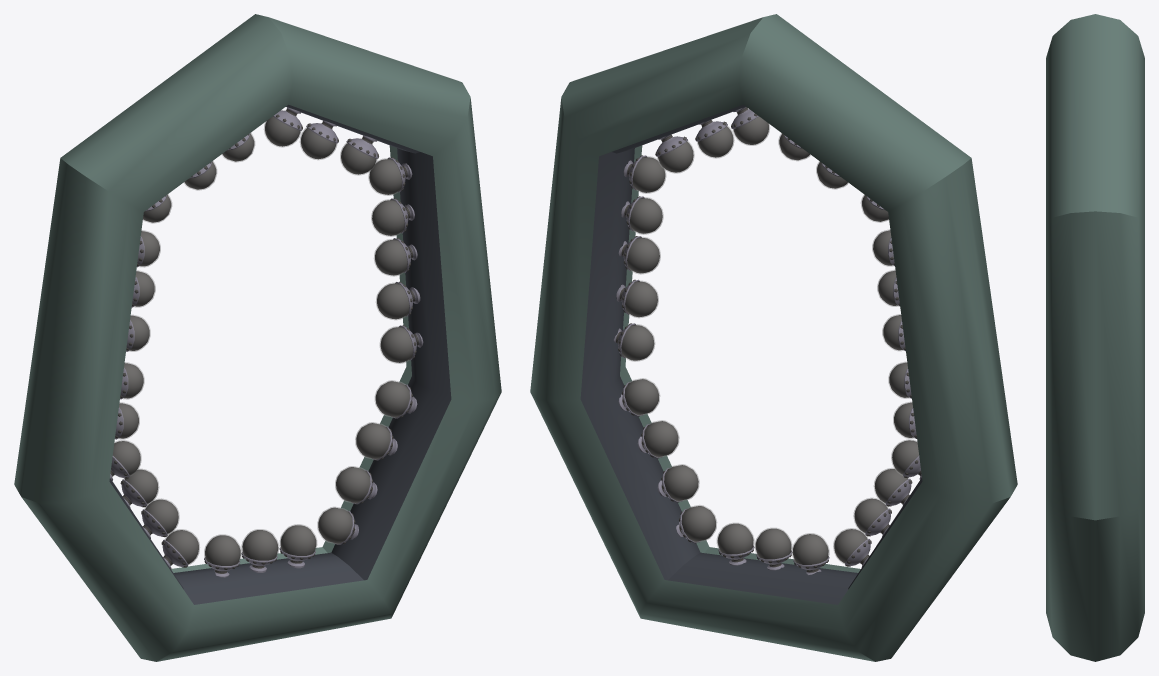
The model's file is Ring_Simple_01.fbx.
3 views of the same model, side by side, from view 1: azimuth 30°, elevation 25°; view 2: azimuth 150°, elevation 25°; view 3: azimuth 270°, elevation 25° (orthographic). The views are drawn at different scales.
Visible parts, largest first — view 1: Ring_01_simple, KugelLampe_01.037; view 2: Ring_01_simple, KugelLampe_01.037; view 3: Ring_01_simple.
Part boxes in pixels (x1,y1,x2,y2): Ring_01_simple: (14, 14, 501, 661); KugelLampe_01.037: (110, 107, 423, 577); Ring_01_simple: (530, 14, 1017, 661); KugelLampe_01.037: (614, 107, 921, 574); Ring_01_simple: (1046, 14, 1144, 661).
Size of the model in its own units: 313 by 395 by 59.48.
